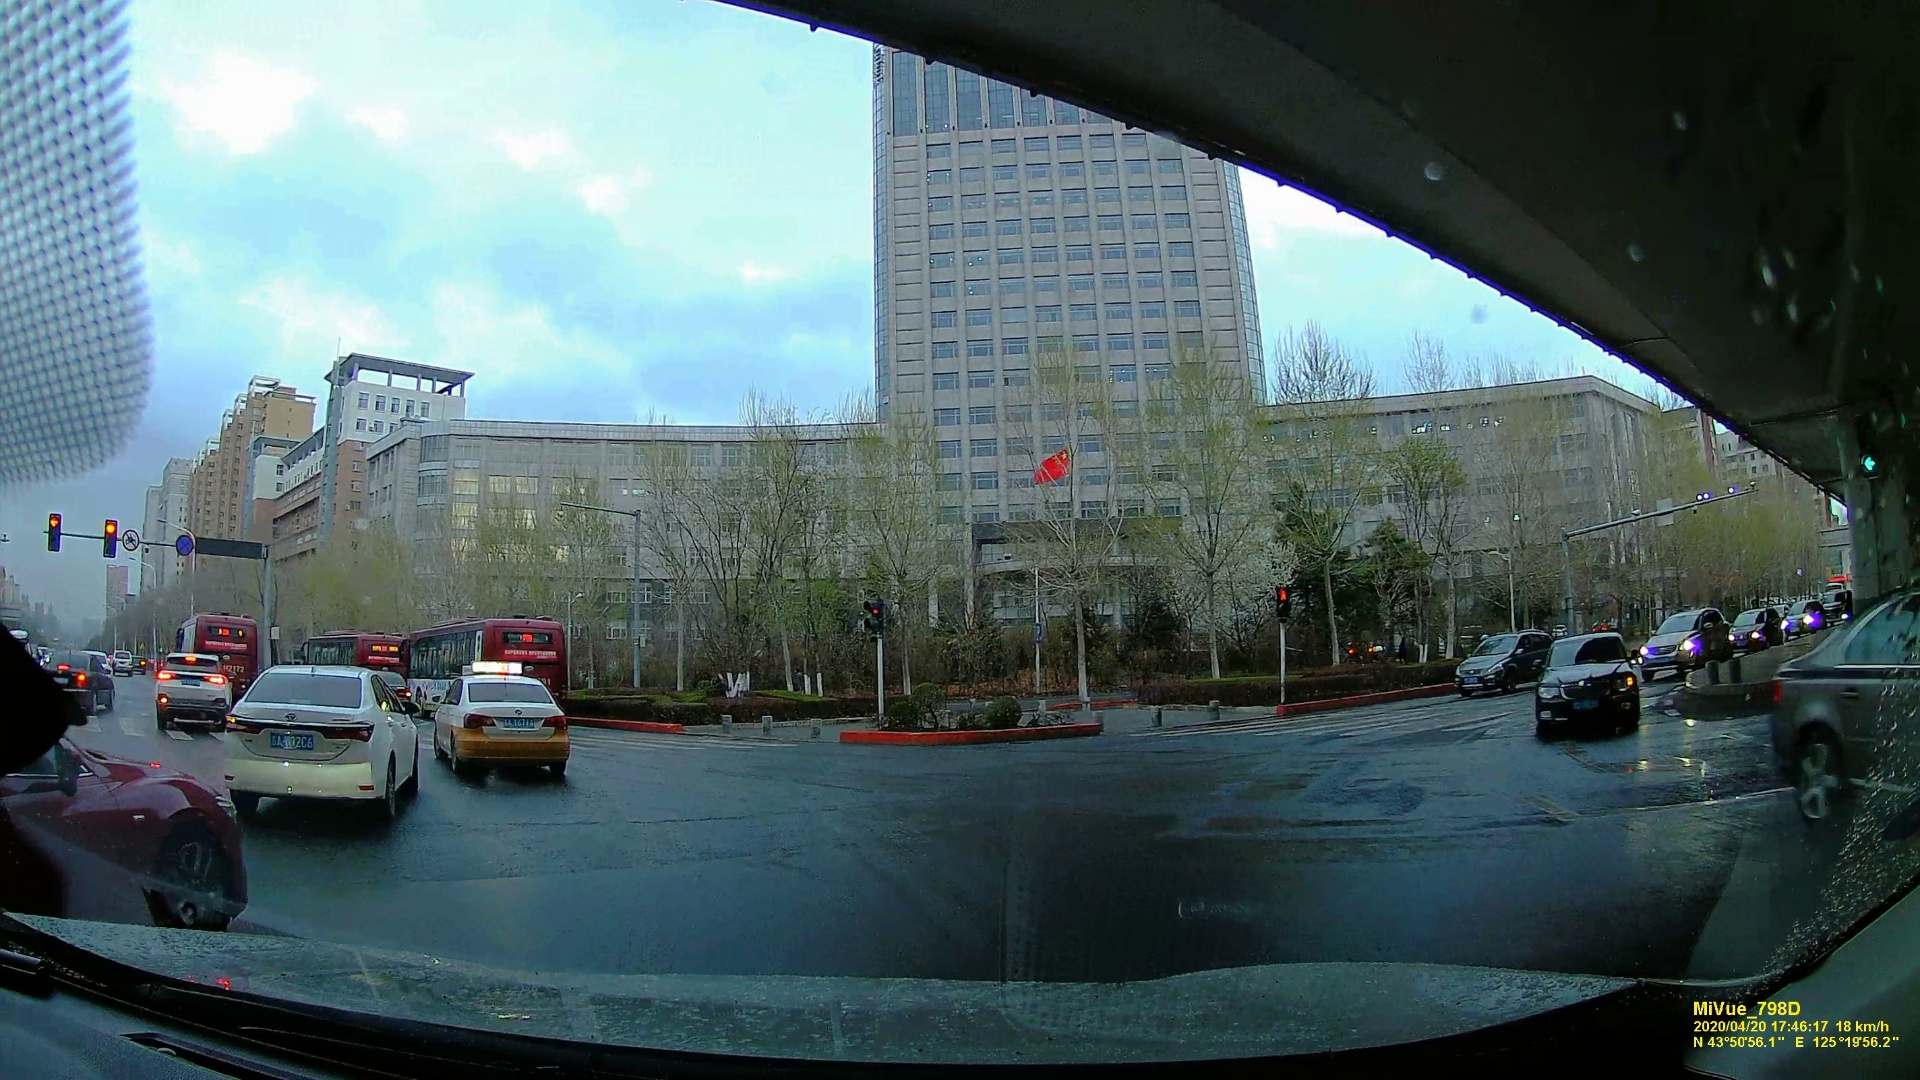bus: (407, 616, 567, 700), (169, 612, 260, 659)
traffic_sign: (858, 601, 884, 630), (45, 513, 63, 550), (102, 521, 121, 555), (1276, 588, 1292, 616), (123, 529, 138, 551), (175, 535, 193, 555)
vehicle: (220, 659, 422, 816), (435, 674, 571, 785), (1534, 633, 1638, 741), (1642, 611, 1731, 676), (1461, 630, 1552, 694), (153, 655, 229, 727), (1735, 607, 1789, 644)
